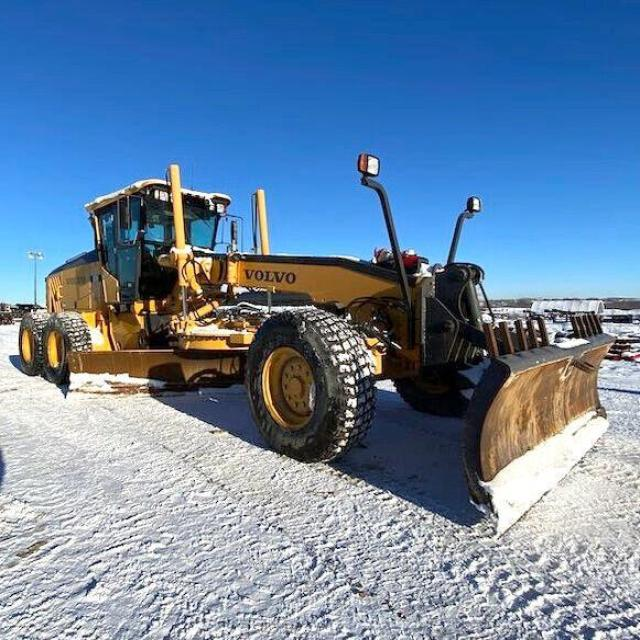buldozerpayloadergrader: (13, 165, 615, 520)
